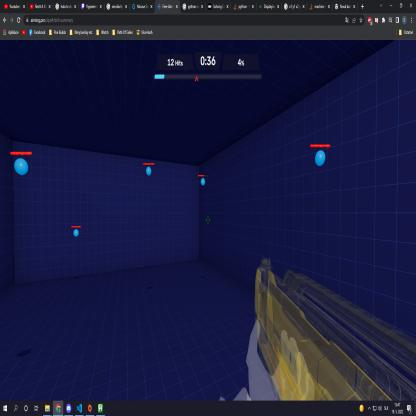sphere: (13, 157, 29, 177), (314, 149, 326, 168), (145, 166, 152, 176), (73, 228, 80, 238), (200, 177, 206, 186)
